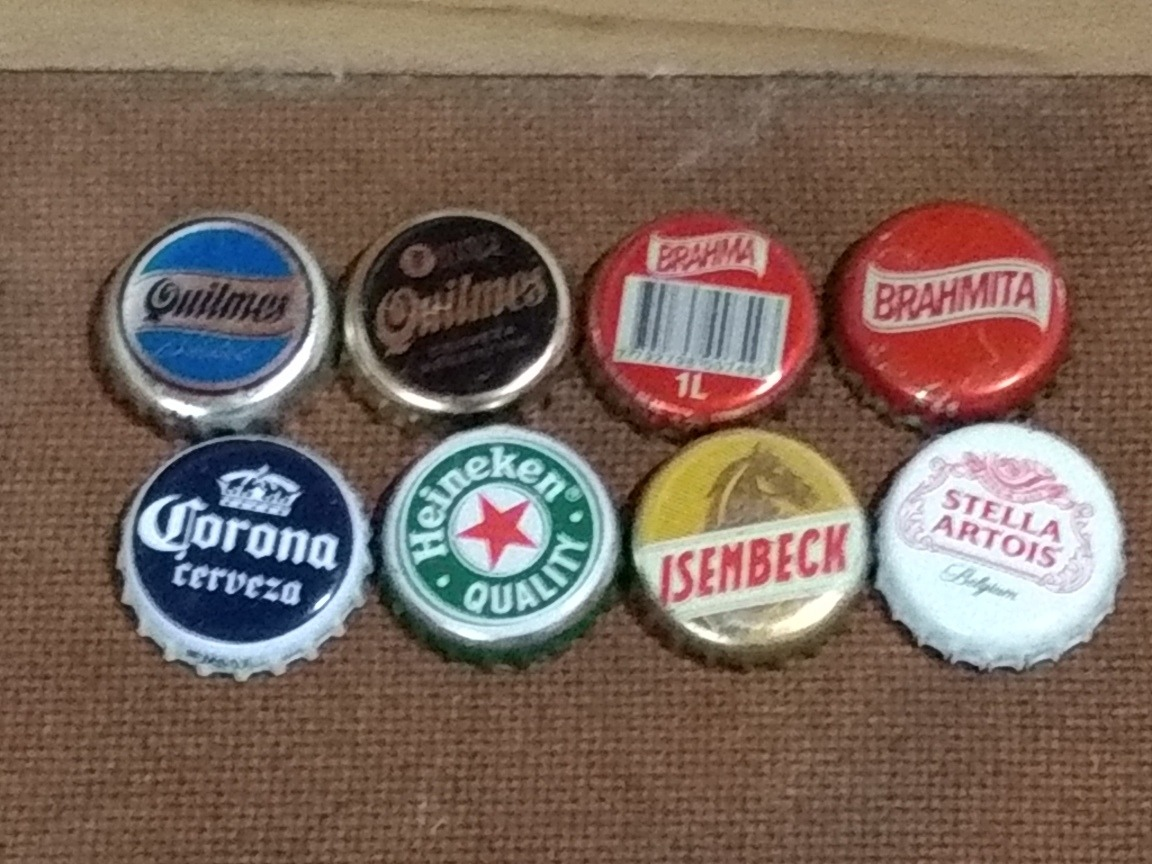corona: (111, 427, 369, 676)
hertog jan: (384, 423, 616, 650)
